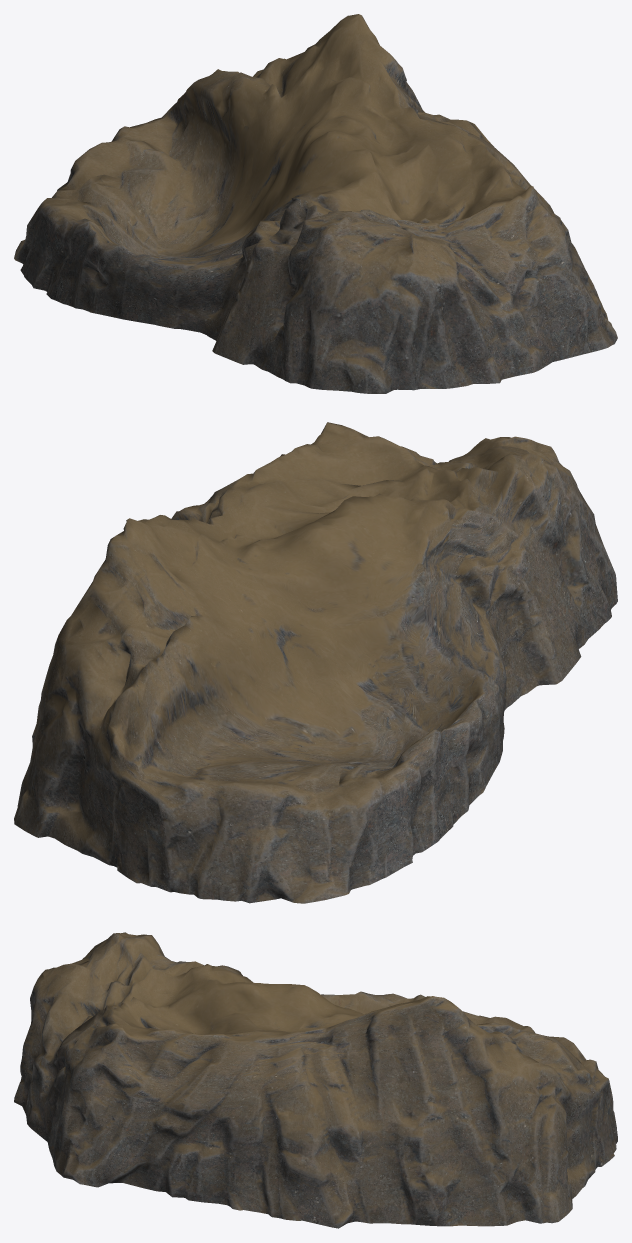
The model's file is Cliff_35.fbx.
3 views of the same model, one above another, from view 1: azimuth 30°, elevation 25°; view 2: azimuth 150°, elevation 25°; view 3: azimuth 270°, elevation 25° (orthographic). The views are drawn at different scales.
Visible parts, largest first — view 1: Cliff_35; view 2: Cliff_35; view 3: Cliff_35.
Boxes of the visible parts, x1,y1,x2,y2 form: Cliff_35: (14, 14, 617, 393); Cliff_35: (14, 422, 617, 903); Cliff_35: (14, 932, 617, 1228).
Size of the model in its own units: 3653 by 2133 by 5537.
